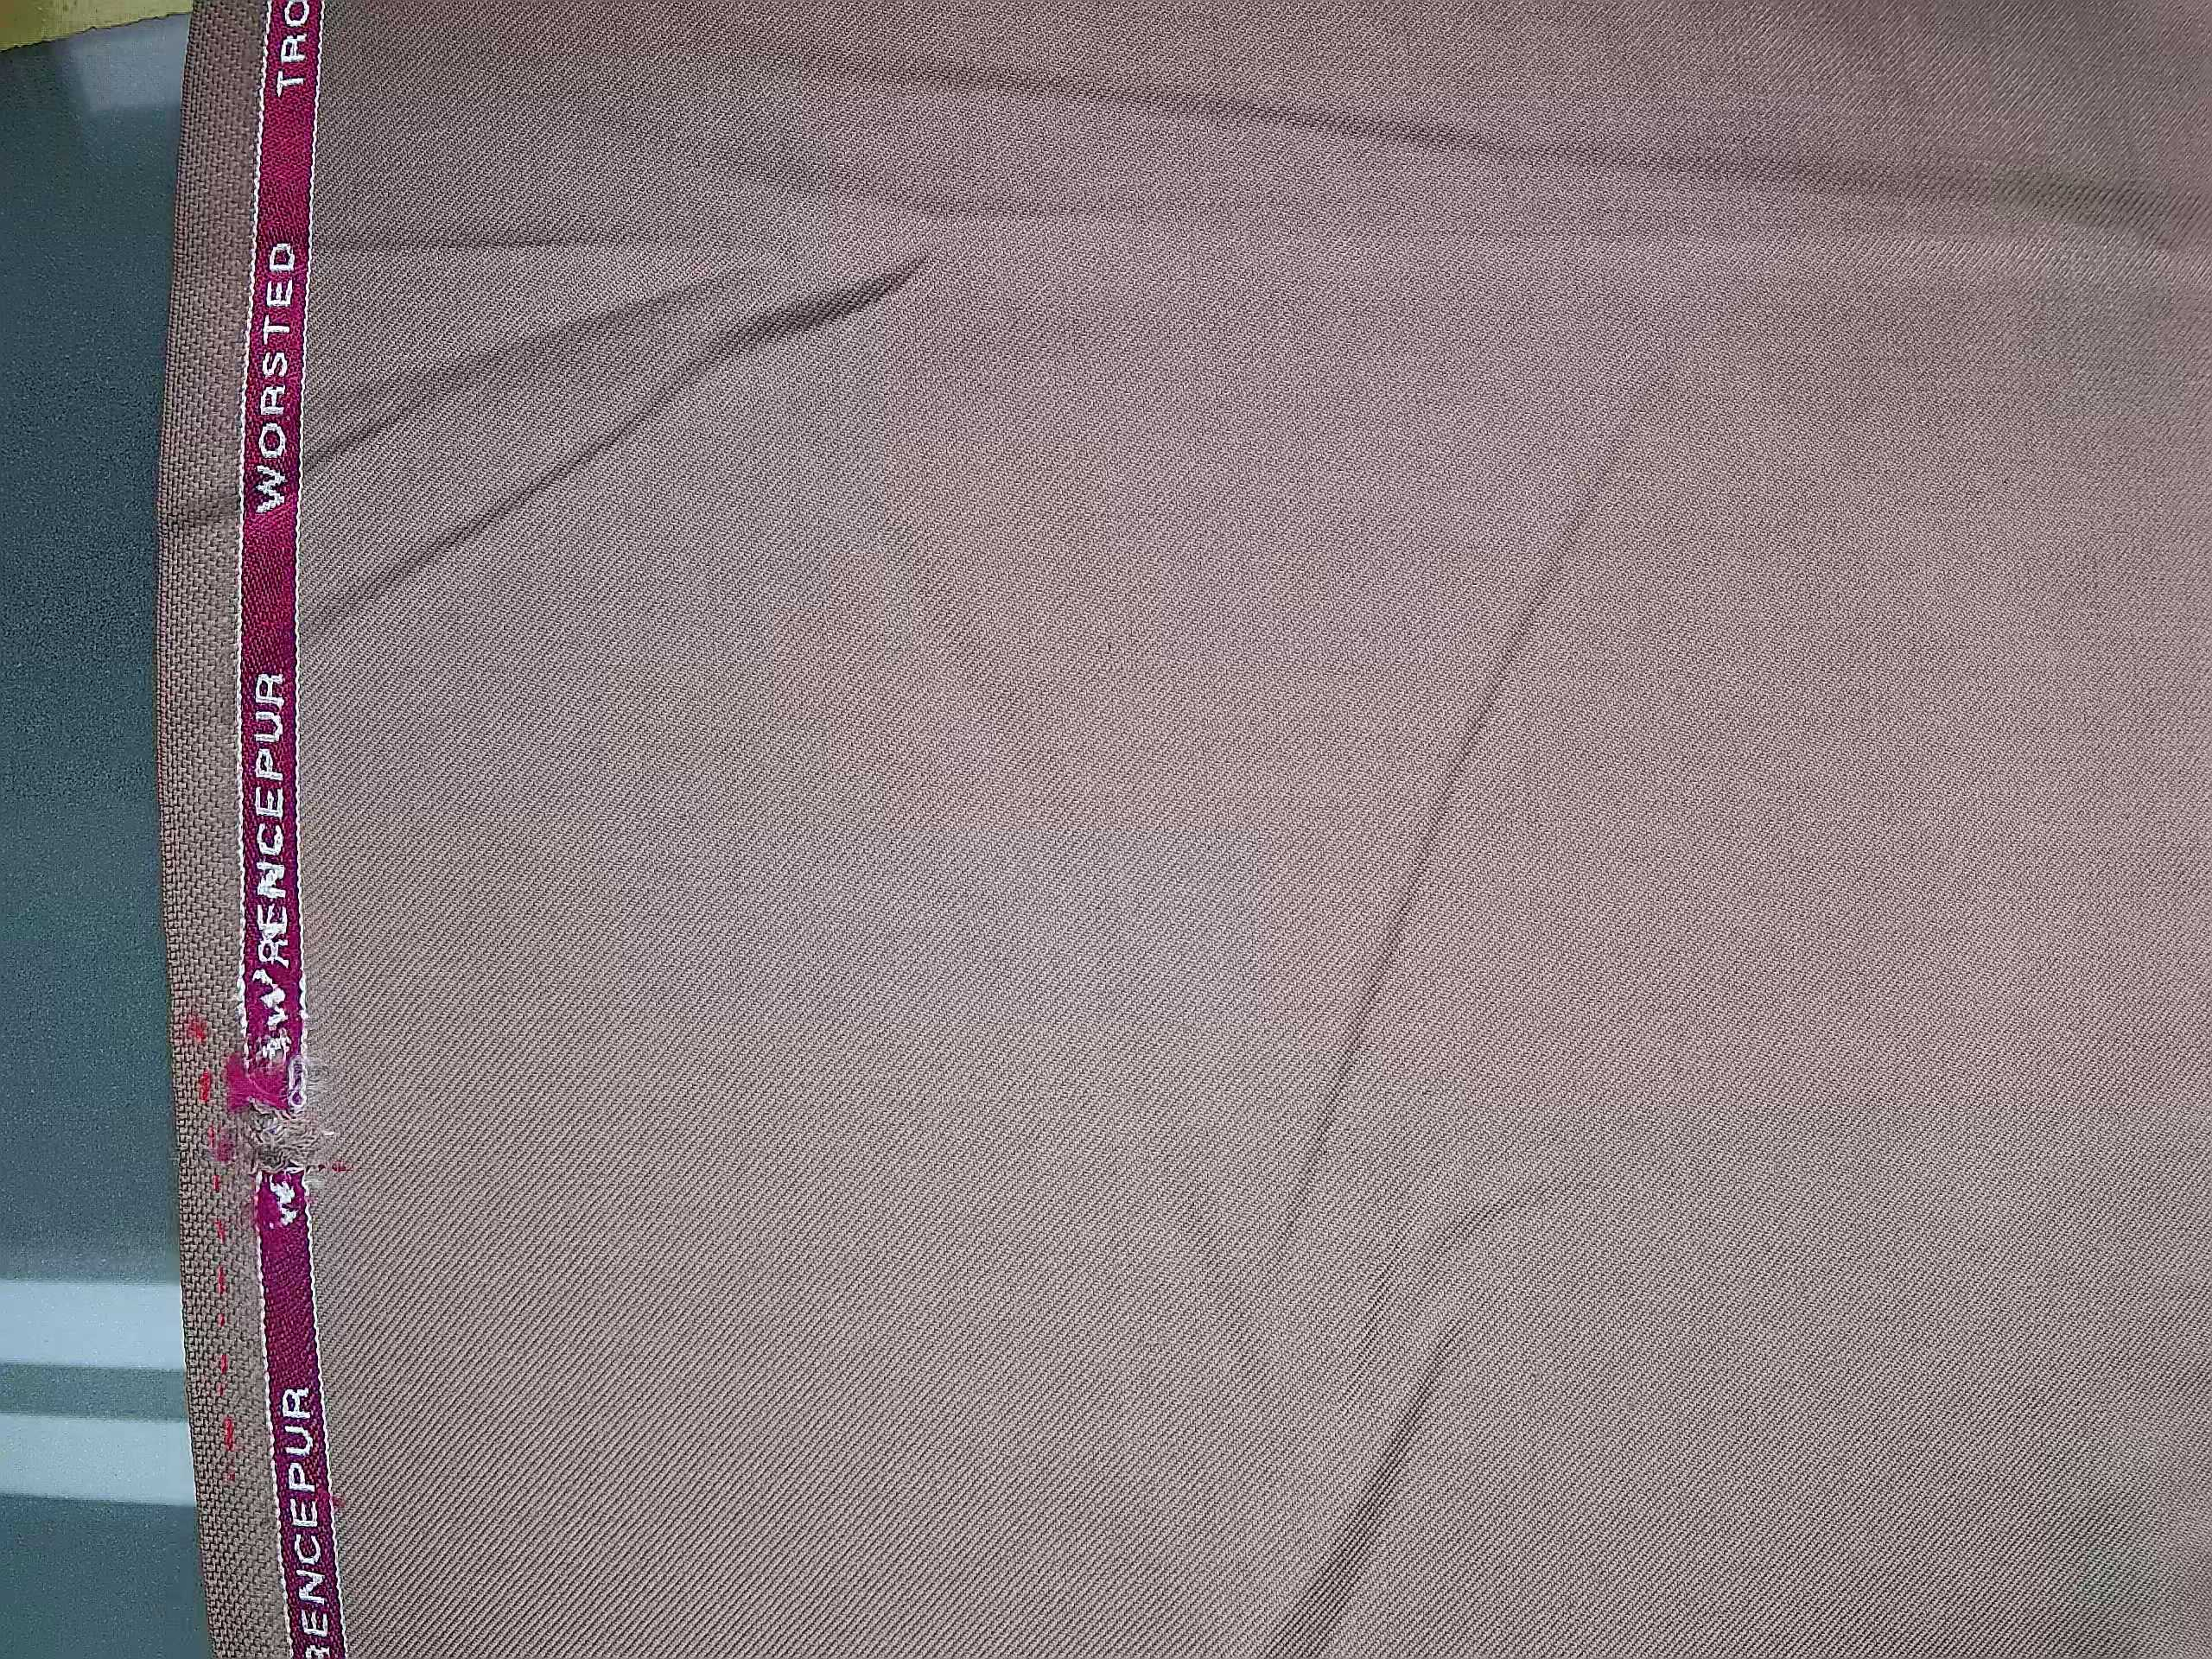others: (212, 1033, 369, 1253)
